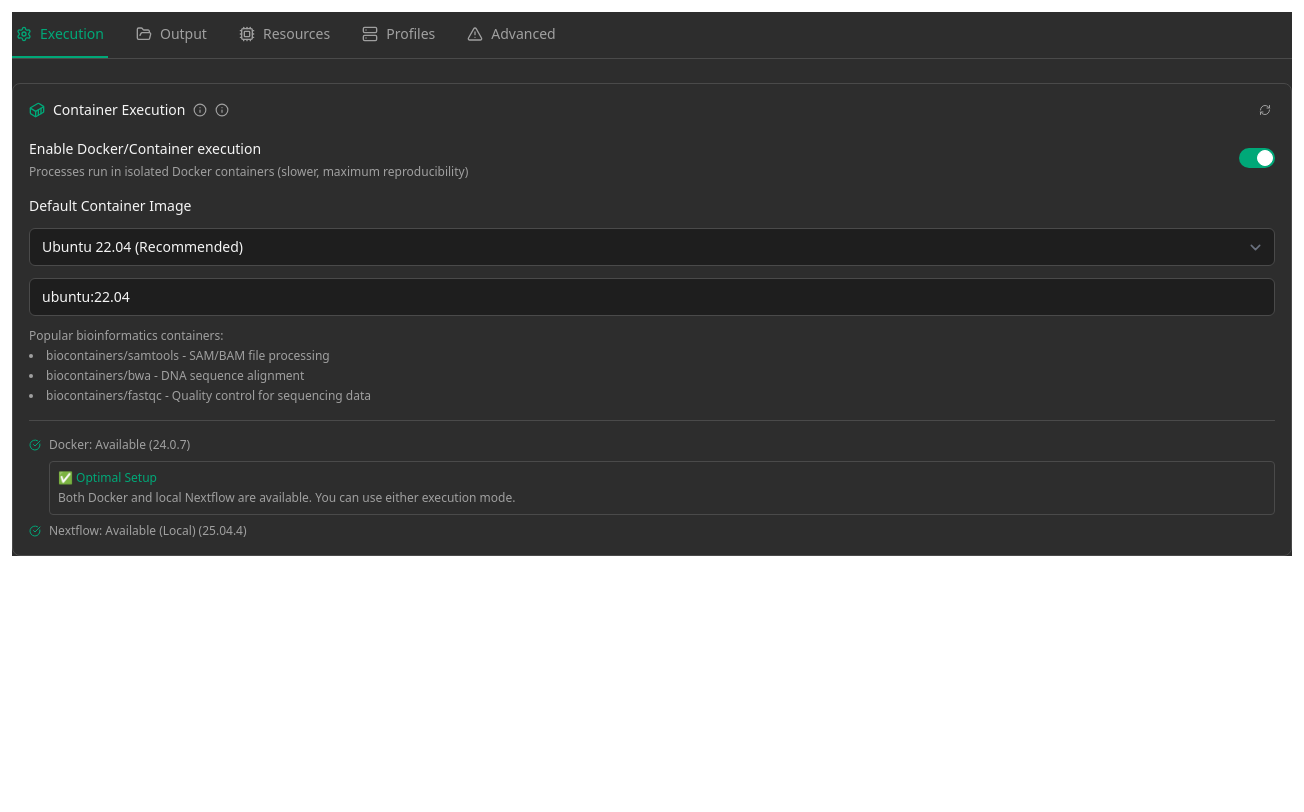
Test: ExecutionSettings › Output tab › toggles the directory help
Expected: the text "Docker: Available (24.0.7)" is shown, [49,437,190,453]
Click the button "Output" at (172, 35), box [132,12,211,58]
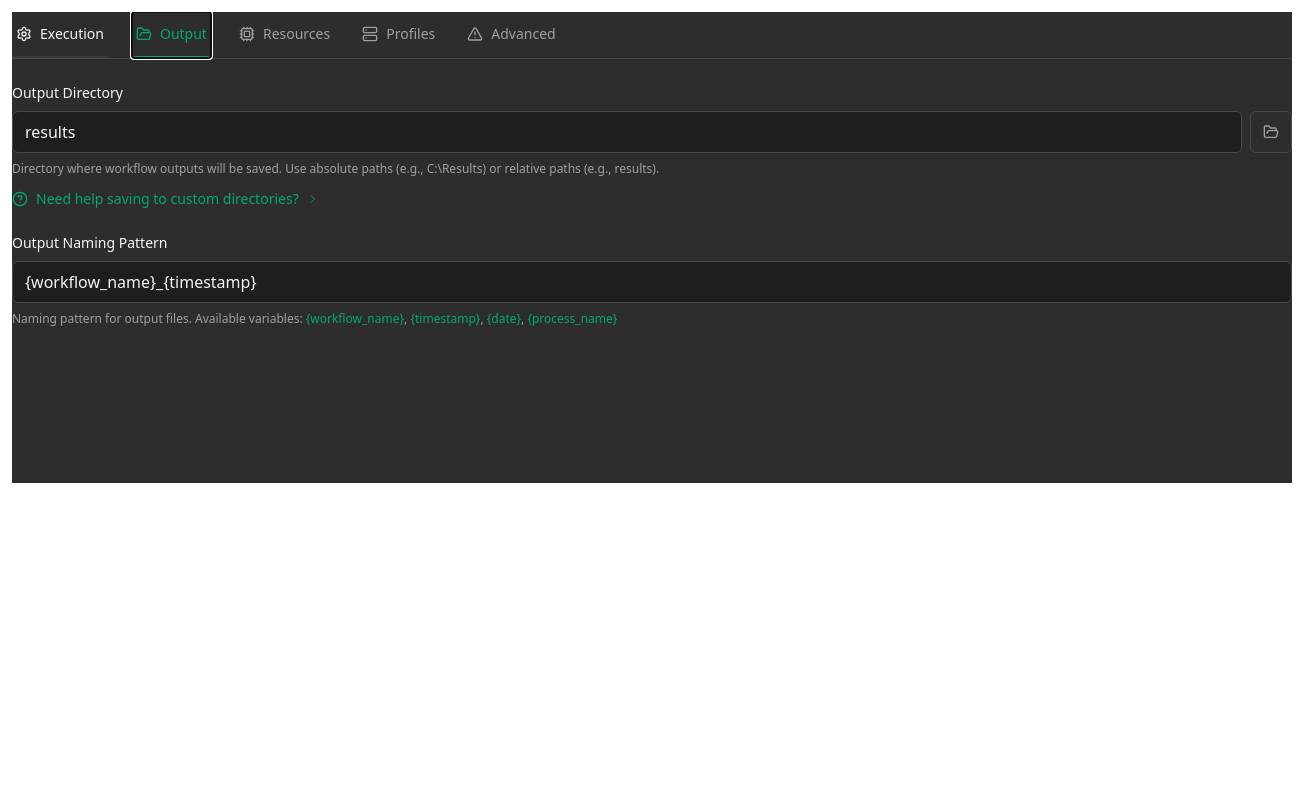
Click the button "Need help saving to custom directories?" at (165, 199), box [12,189,319,209]
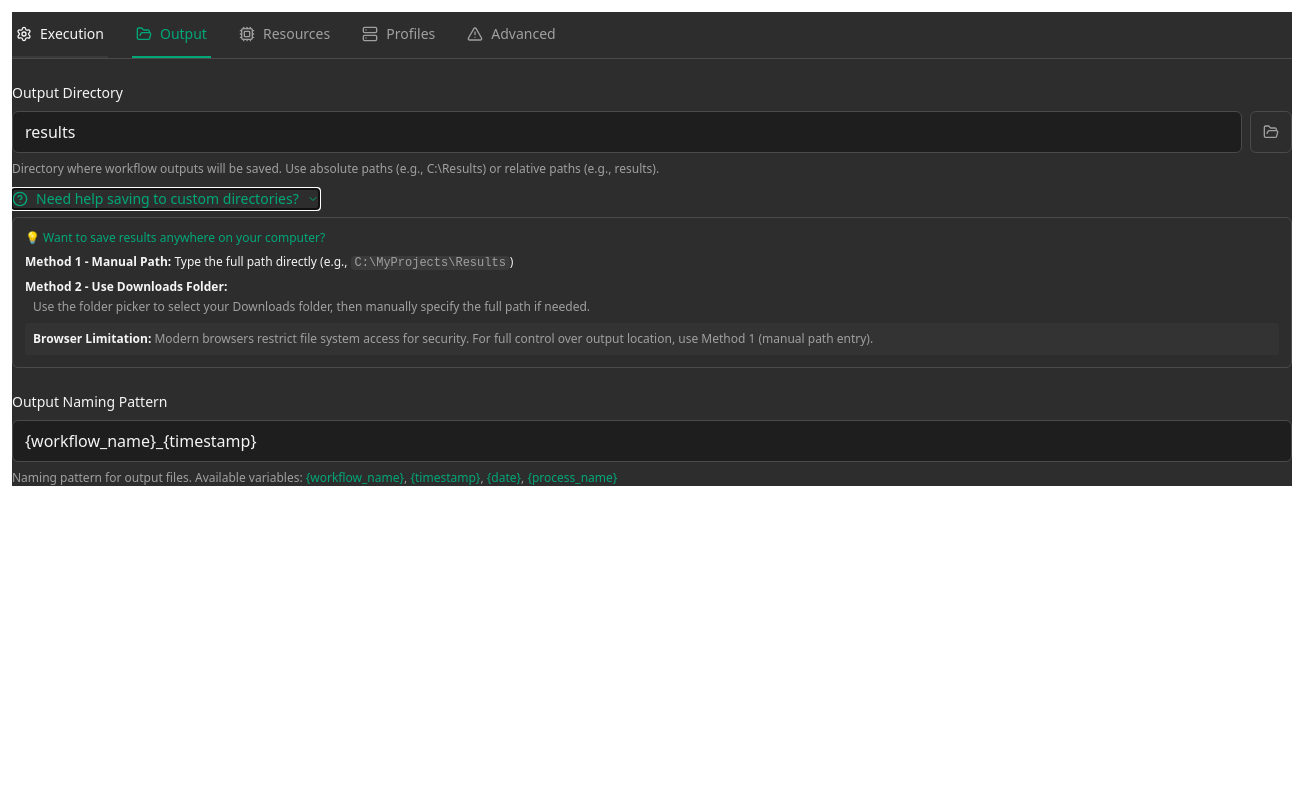
Now the text "Browser Limitation:" is shown, box [33,330,151,347]
Click the button "Need help saving to custom directories?" at (165, 199), box [12,189,319,209]
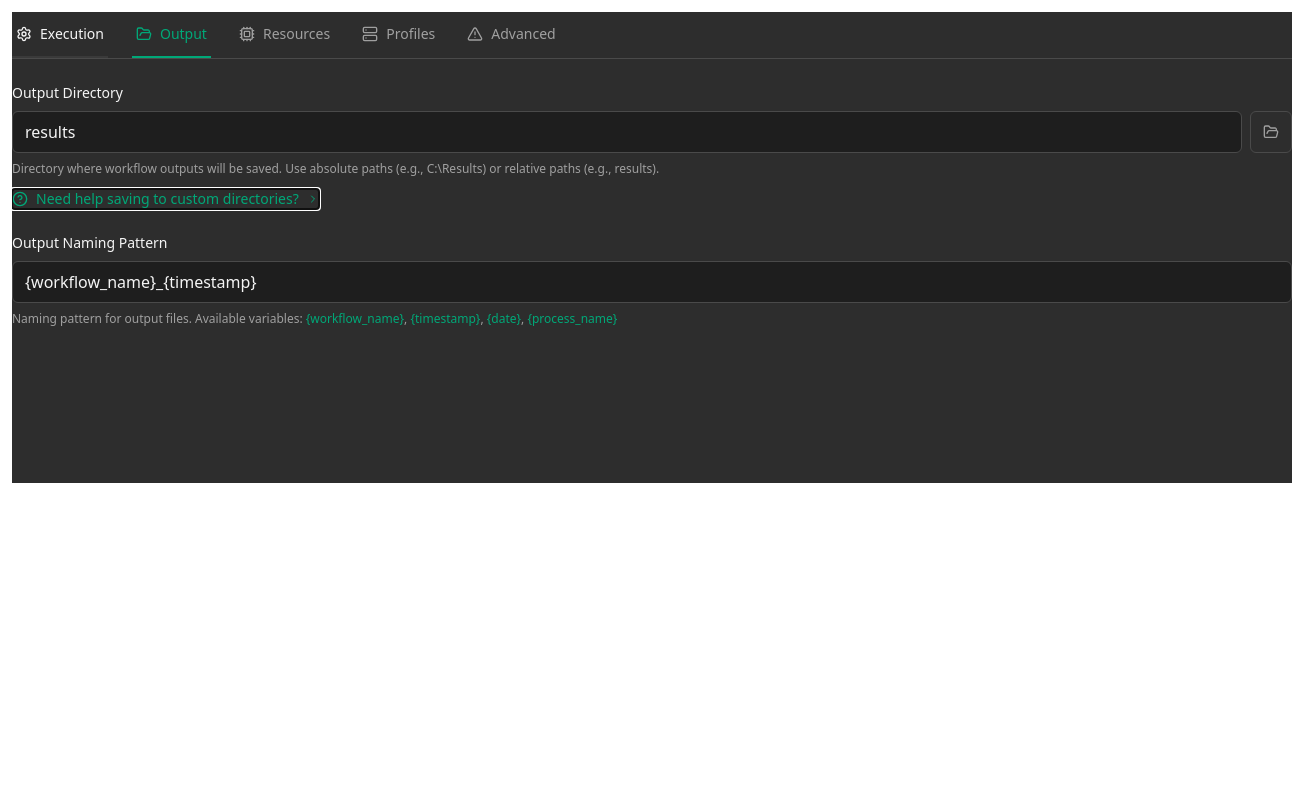
Now the text "Browser Limitation:" is gone
